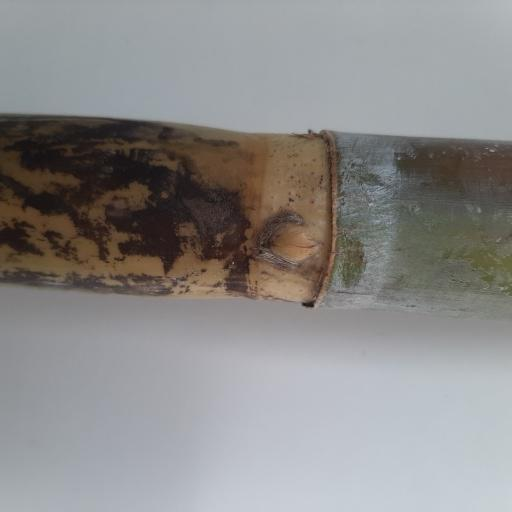Bud: (261, 224, 325, 265)
